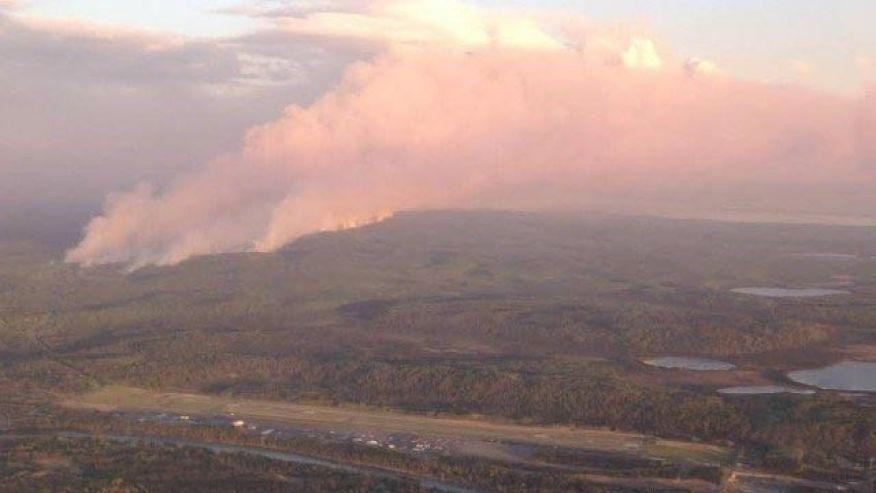smoke: (339, 83, 609, 191)
